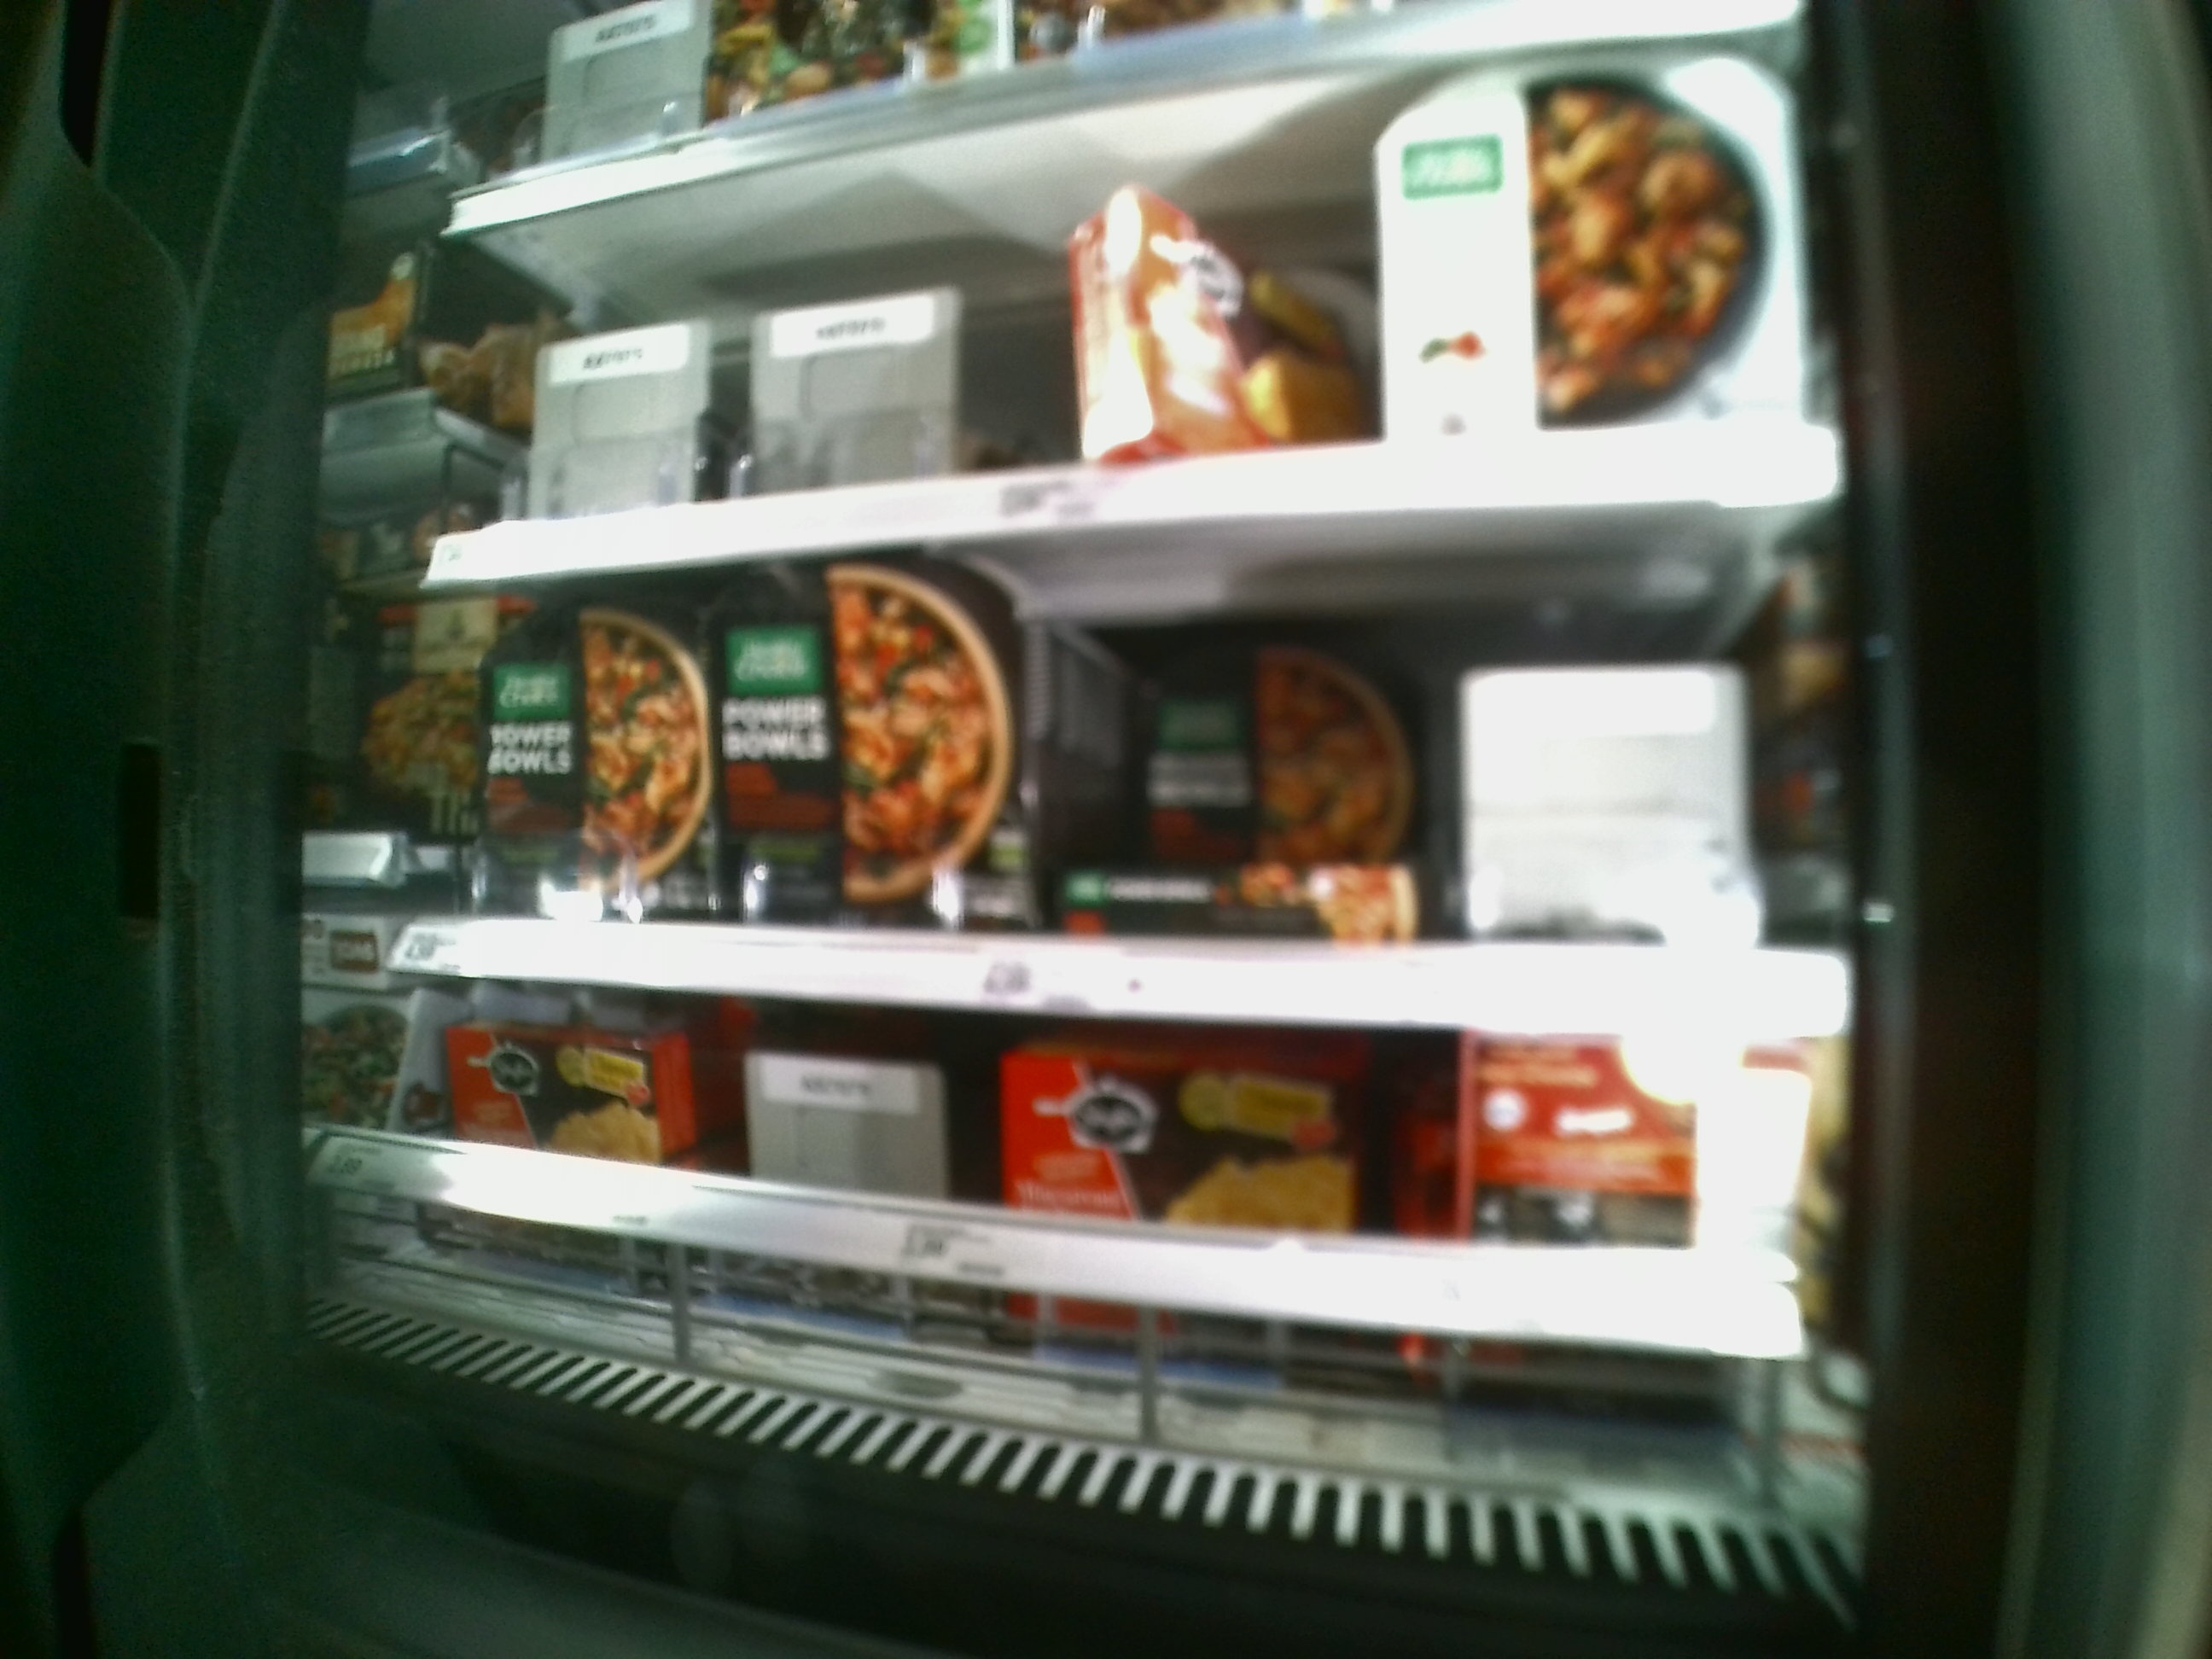shelf: (366, 972, 1871, 1497), (420, 507, 1851, 1025)
